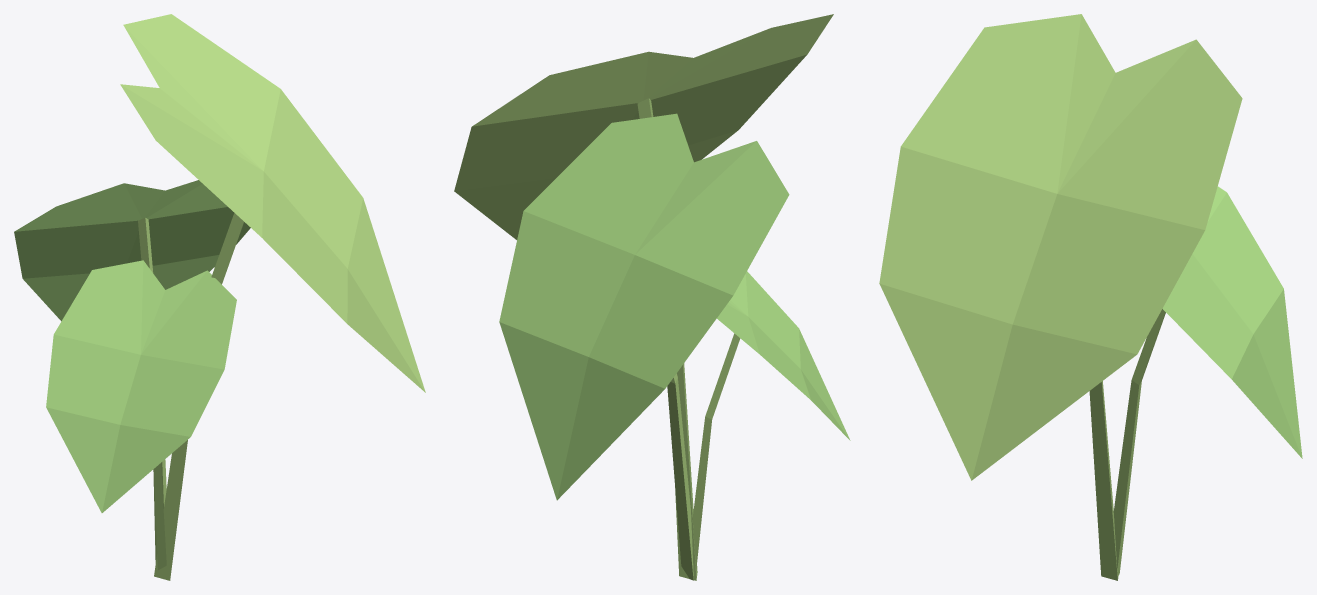
Rendered from Plant_d_OneS_05.fbx.
3 renders of one model, left to right at view 1: azimuth 30°, elevation 25°; view 2: azimuth 150°, elevation 25°; view 3: azimuth 270°, elevation 25°, orthographic. The views are drawn at different scales.
Parts seen in each view (by area): view 1: Plant_d_OneS_05; view 2: Plant_d_OneS_05; view 3: Plant_d_OneS_05.
Part boxes in pixels (left/top/right/bottom): Plant_d_OneS_05: left=14, top=14, right=425, bottom=580; Plant_d_OneS_05: left=454, top=14, right=850, bottom=580; Plant_d_OneS_05: left=879, top=14, right=1302, bottom=580.
Bounding box in the file's own units: 0.4525 × 0.6925 × 0.495.
